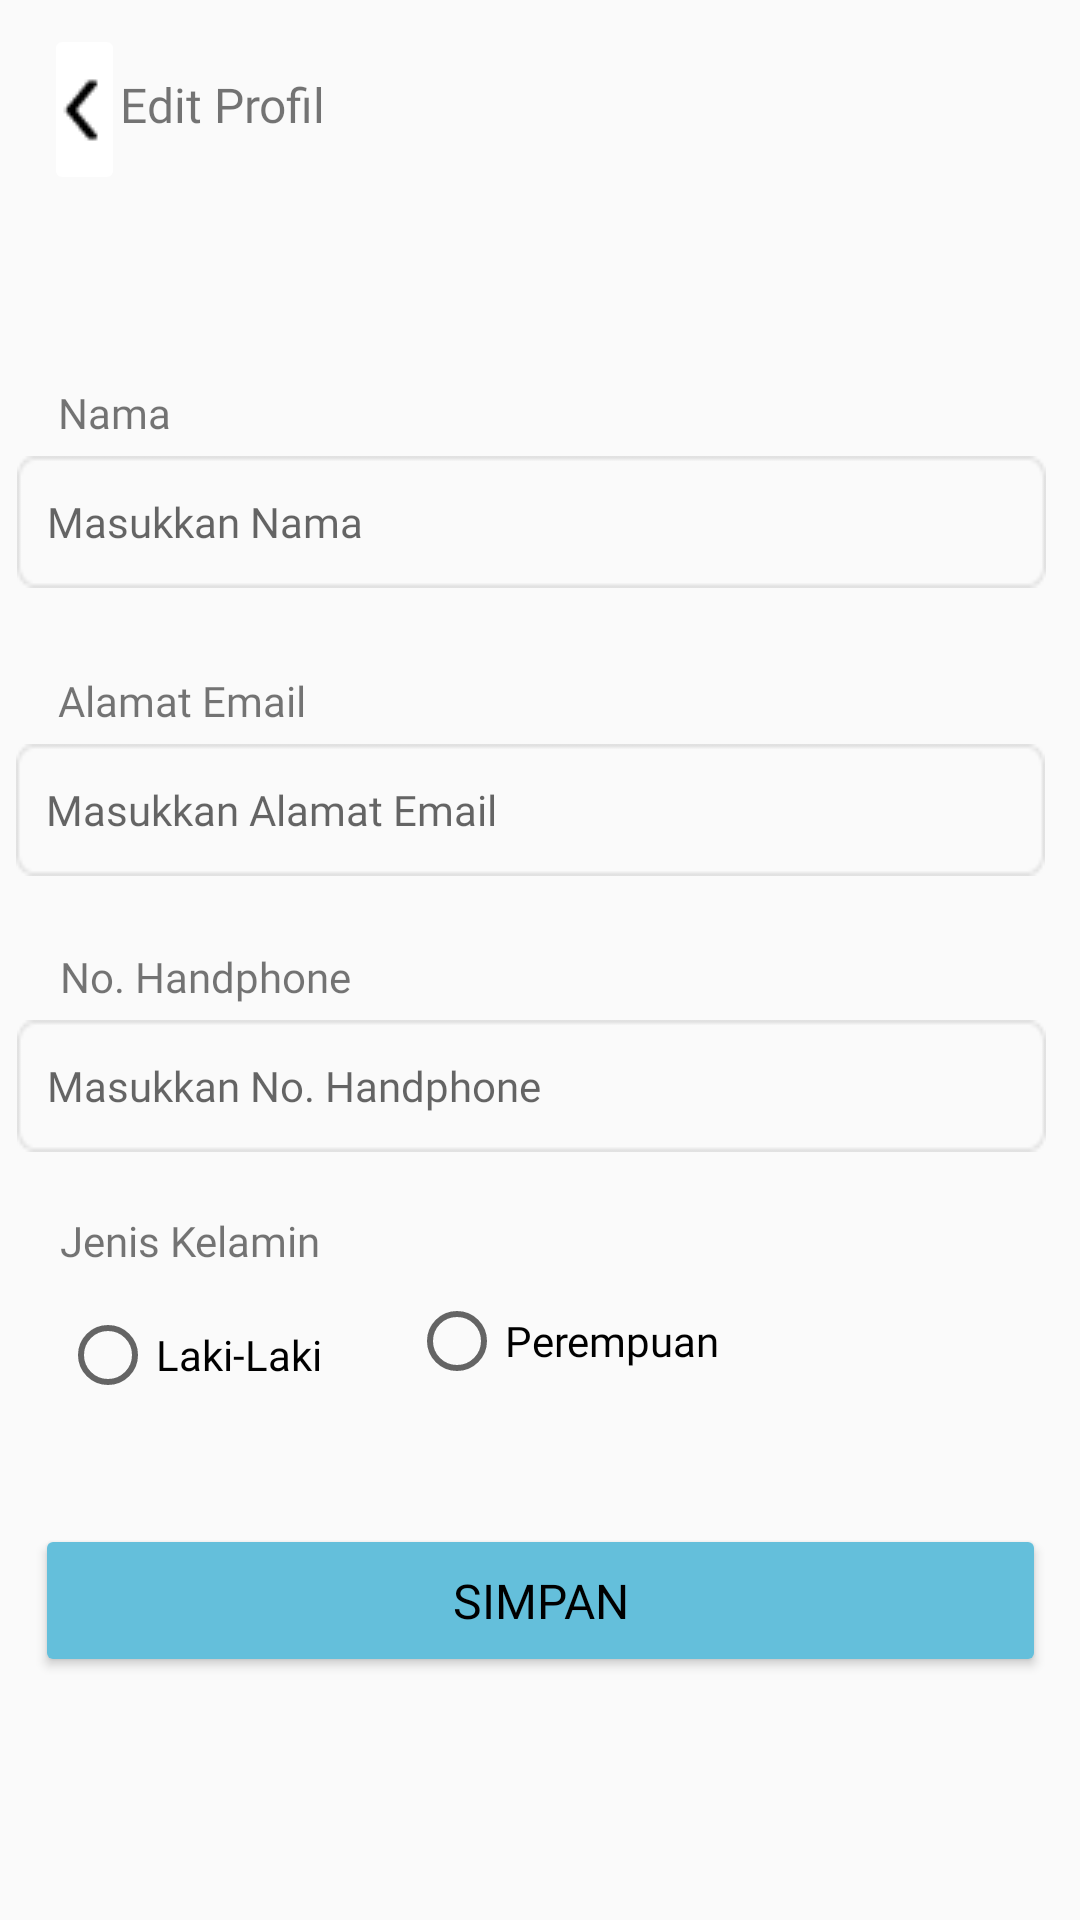

Locate icon controls on the screen. Image size 1080*1920, boxes as (x1, y1, x2, y2).
panah: (64, 79, 98, 141)
